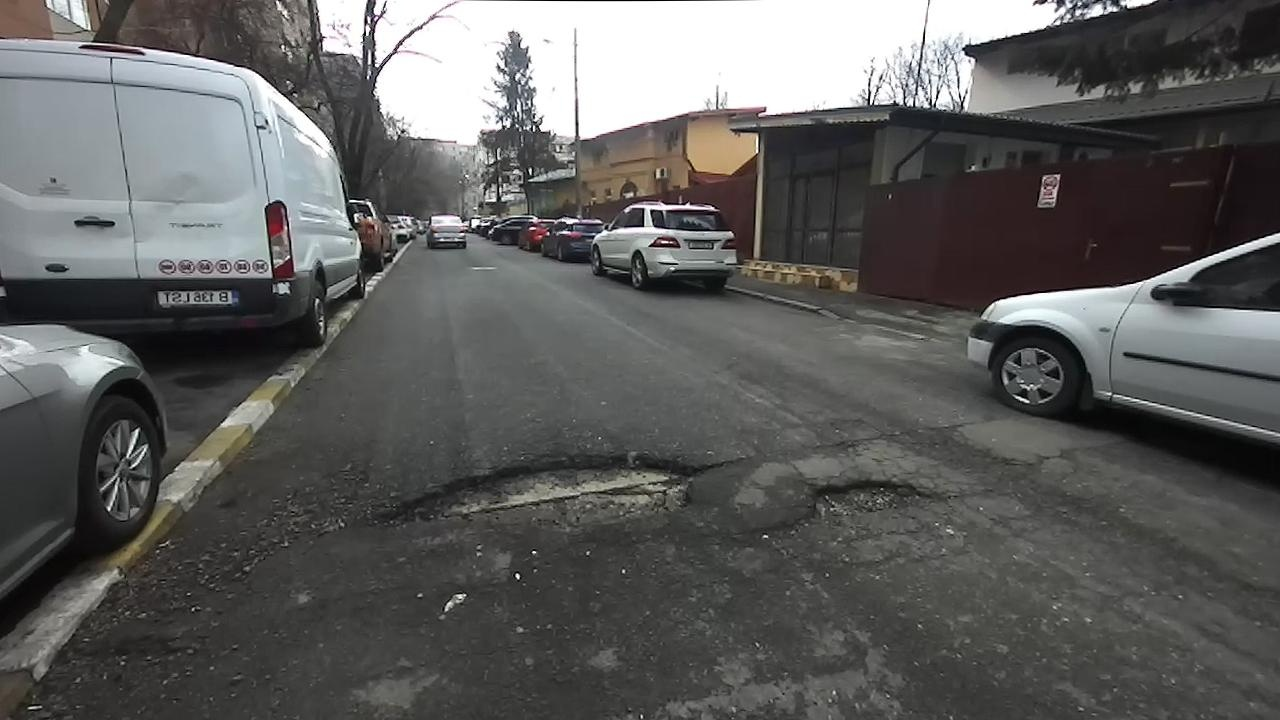pothole: (358, 443, 715, 552), (767, 471, 943, 534)
